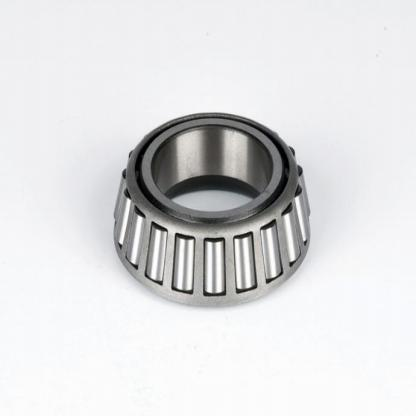FOD: (112, 110, 315, 313)
